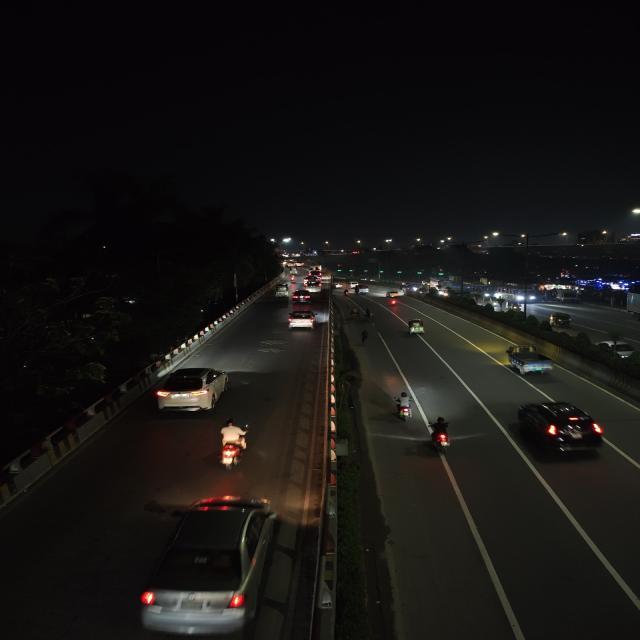bus: (507, 285, 540, 303), (468, 283, 500, 301)
car: (132, 492, 292, 638), (513, 398, 612, 456), (151, 365, 235, 417), (594, 338, 638, 360), (286, 309, 317, 331), (291, 290, 313, 304), (304, 280, 322, 292), (385, 289, 402, 299), (356, 285, 371, 295), (331, 279, 345, 289)
cng: (502, 342, 556, 378), (547, 311, 575, 331), (405, 317, 428, 337), (273, 283, 290, 297)
motorcycle: (213, 418, 257, 472), (424, 414, 458, 456), (389, 390, 415, 426), (343, 288, 352, 296)
pedestrian: (357, 328, 372, 346)
pickup_van: (503, 343, 557, 377)
truck: (556, 290, 578, 304)
